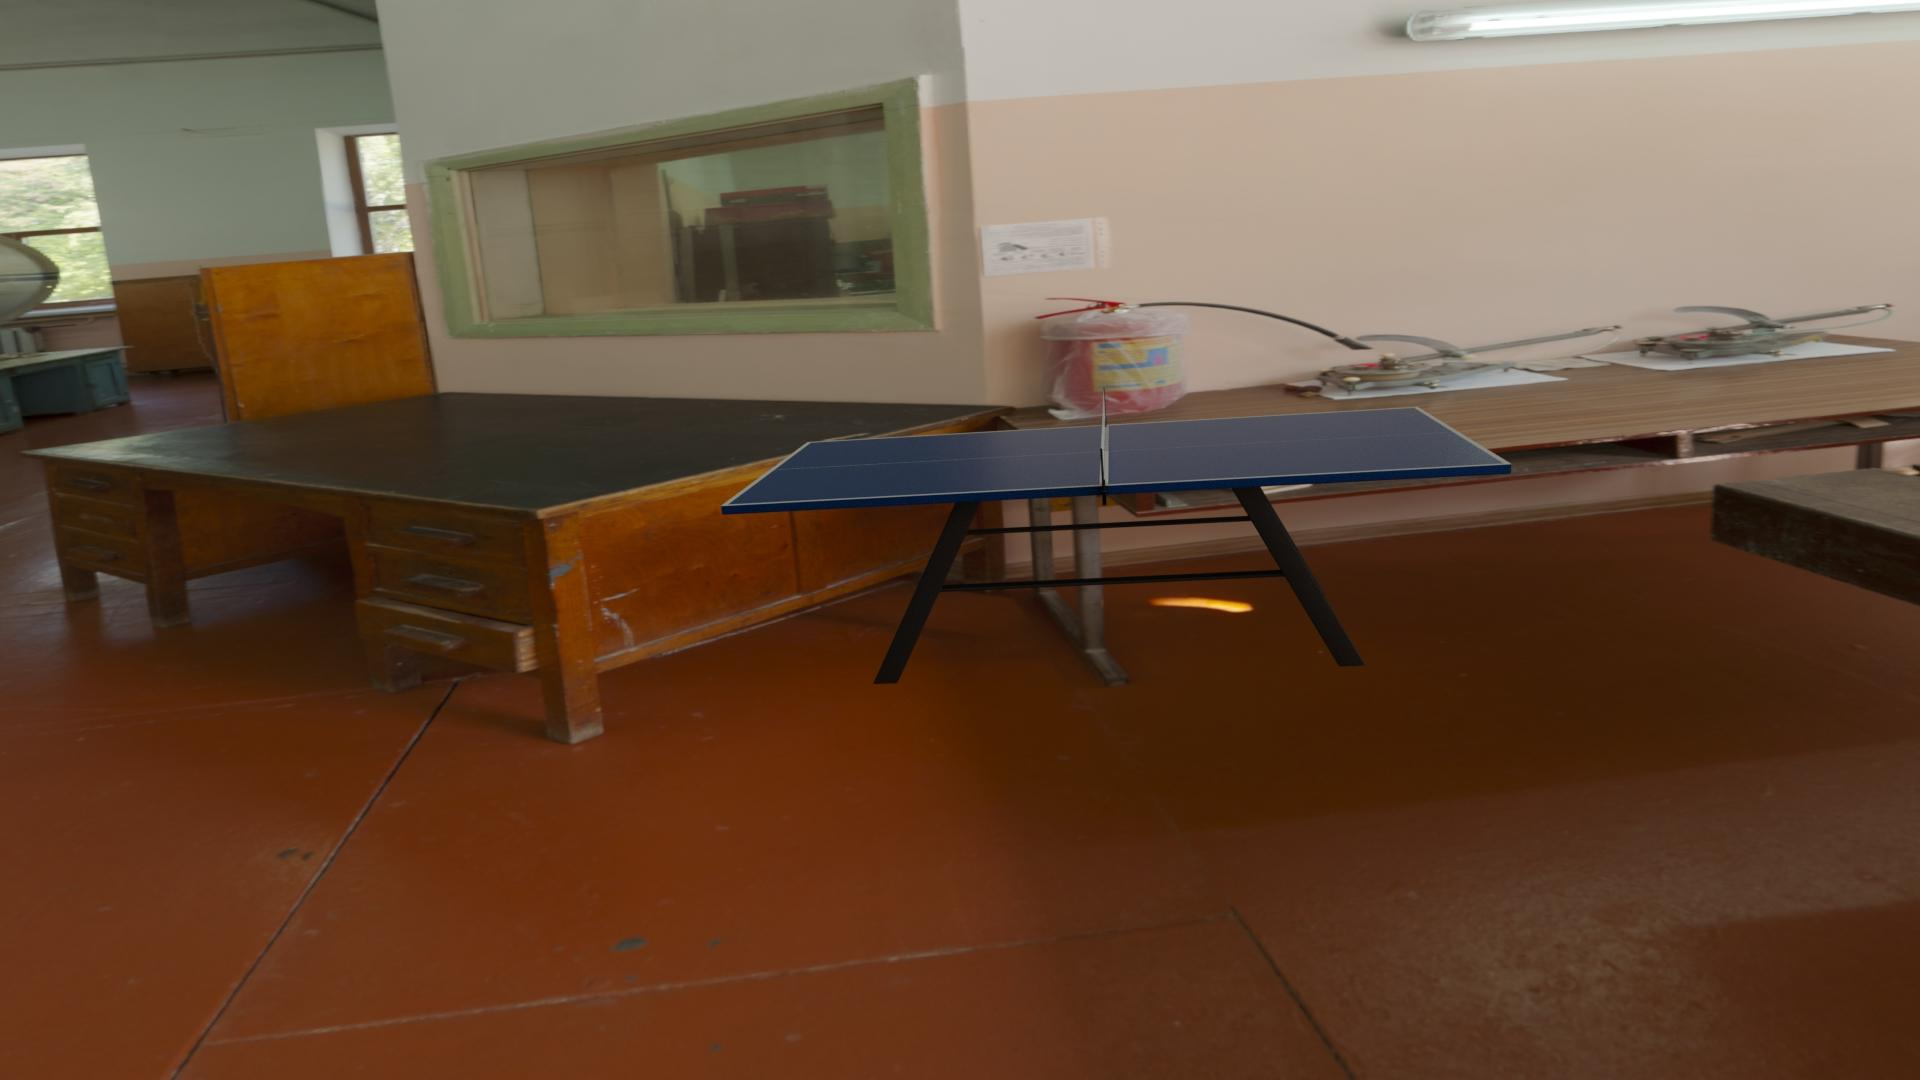table: (728, 407, 1503, 505)
